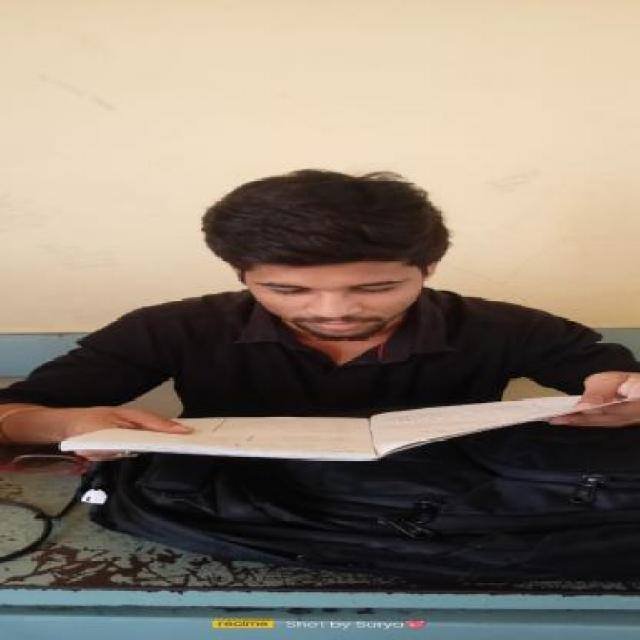good: (0, 160, 640, 503)
